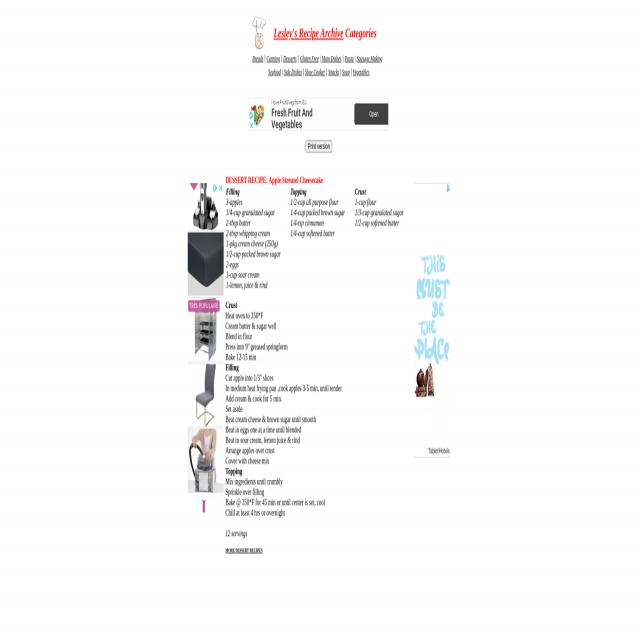button: (186, 183, 224, 528), (249, 98, 388, 130), (355, 103, 388, 125), (250, 16, 268, 49), (446, 184, 452, 195), (212, 184, 218, 194), (218, 184, 224, 194), (249, 112, 254, 121), (249, 121, 254, 130)
field: (306, 140, 332, 152)
